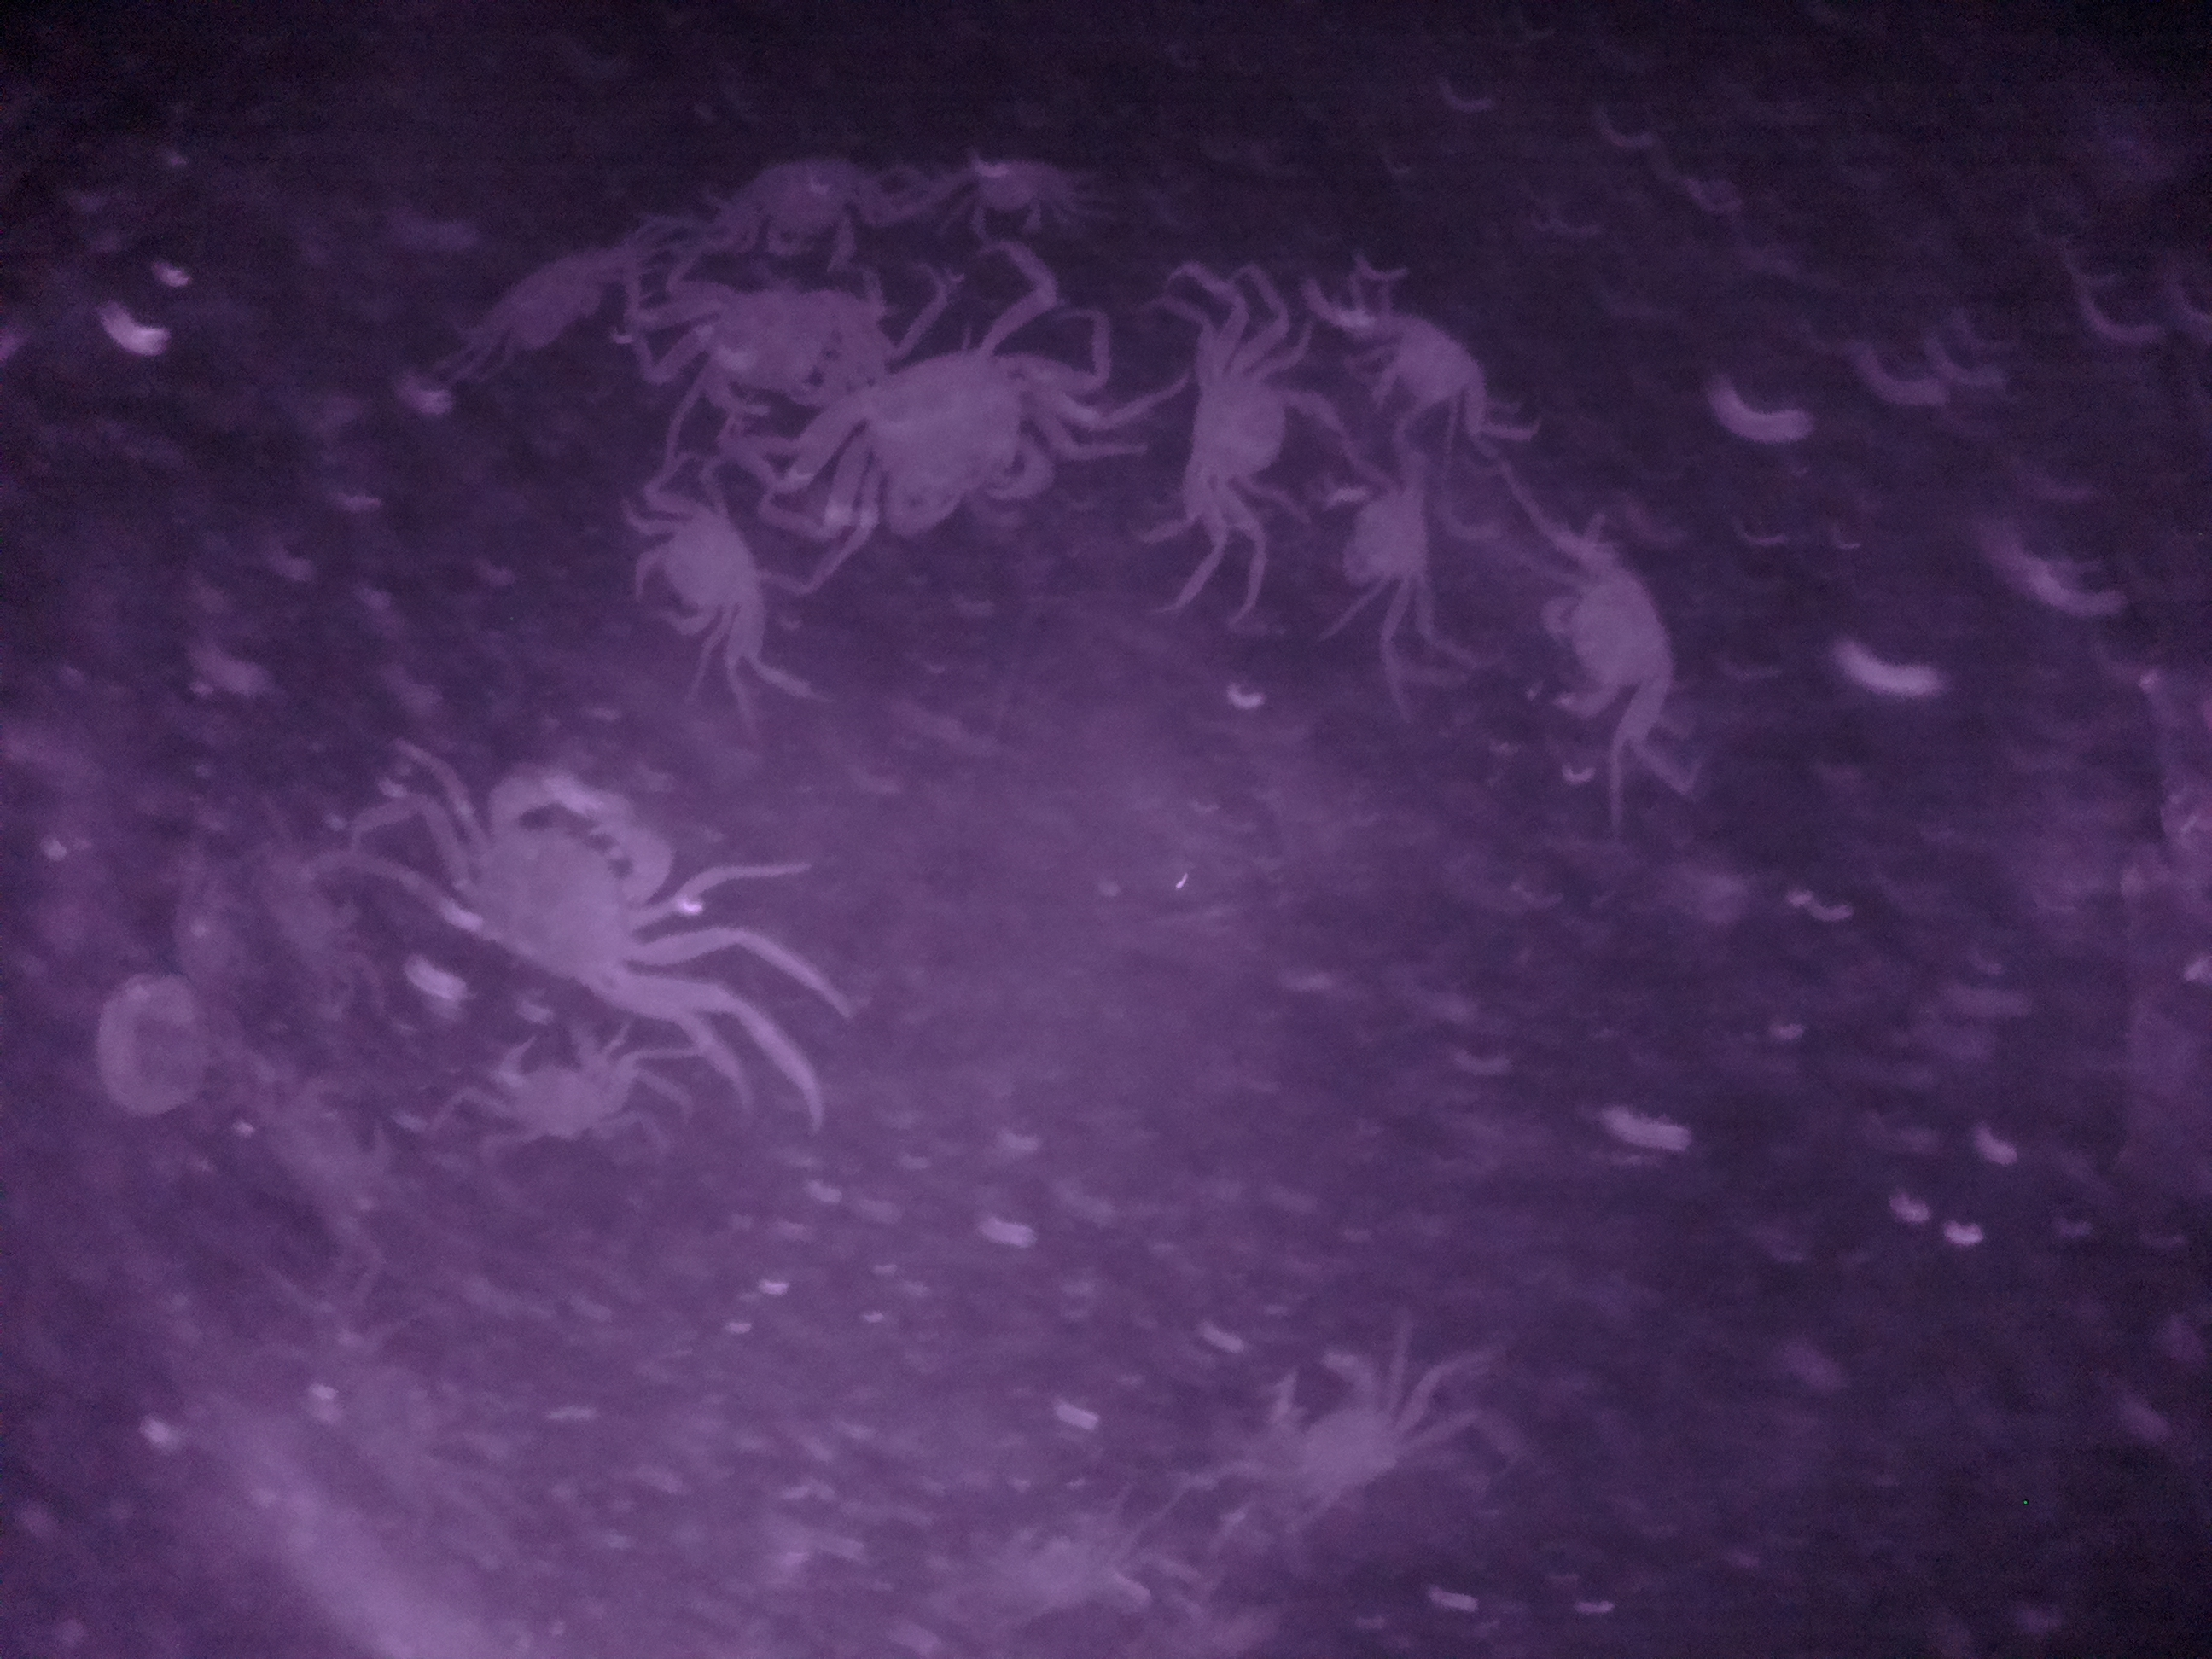Crab: (420, 758, 719, 1021), (819, 312, 1082, 554), (1526, 521, 1688, 737), (1165, 324, 1322, 526), (622, 476, 784, 660), (488, 1016, 627, 1171), (1312, 469, 1453, 619)
